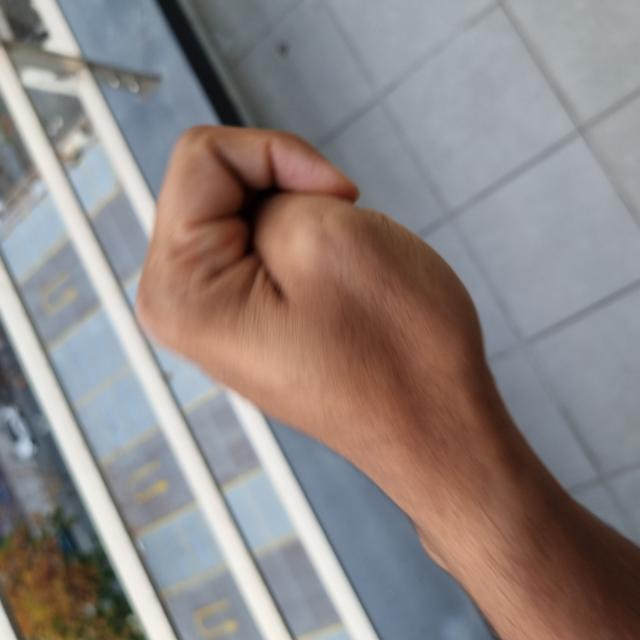Rock: (159, 138, 514, 483)
